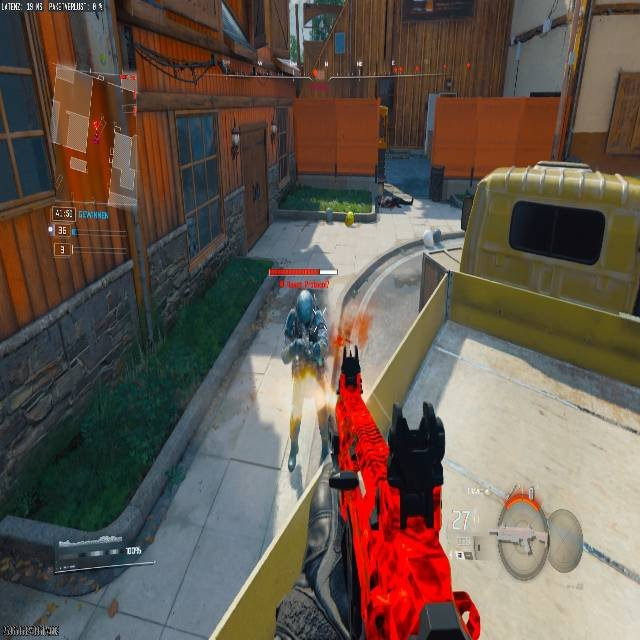head: (296, 290, 315, 322)
player: (282, 290, 326, 366)
